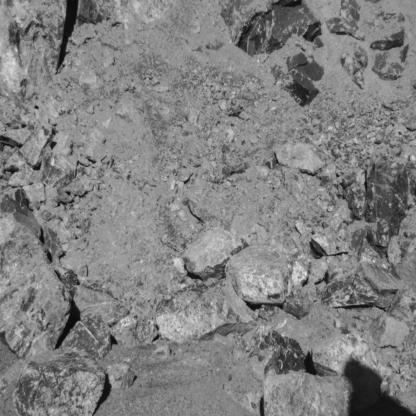stone: (0, 207, 70, 357), (157, 276, 258, 343), (0, 0, 66, 95), (12, 349, 105, 416), (225, 234, 309, 305), (219, 0, 322, 57), (364, 156, 416, 251), (264, 372, 351, 416), (182, 228, 245, 280), (311, 329, 376, 374), (243, 330, 311, 373), (275, 53, 324, 105), (72, 286, 129, 329), (322, 275, 389, 309), (0, 187, 41, 240), (60, 314, 108, 357), (278, 143, 338, 175), (38, 148, 78, 191), (326, 0, 366, 40), (21, 120, 53, 169), (359, 261, 406, 293), (340, 40, 368, 89), (372, 45, 409, 81), (369, 16, 407, 51), (344, 167, 367, 220), (284, 282, 319, 316), (371, 314, 407, 346), (77, 0, 127, 22), (111, 314, 142, 349), (308, 226, 348, 253), (5, 153, 36, 187), (106, 362, 136, 390), (21, 179, 47, 202), (0, 130, 33, 147), (136, 318, 159, 342), (257, 306, 281, 321)
